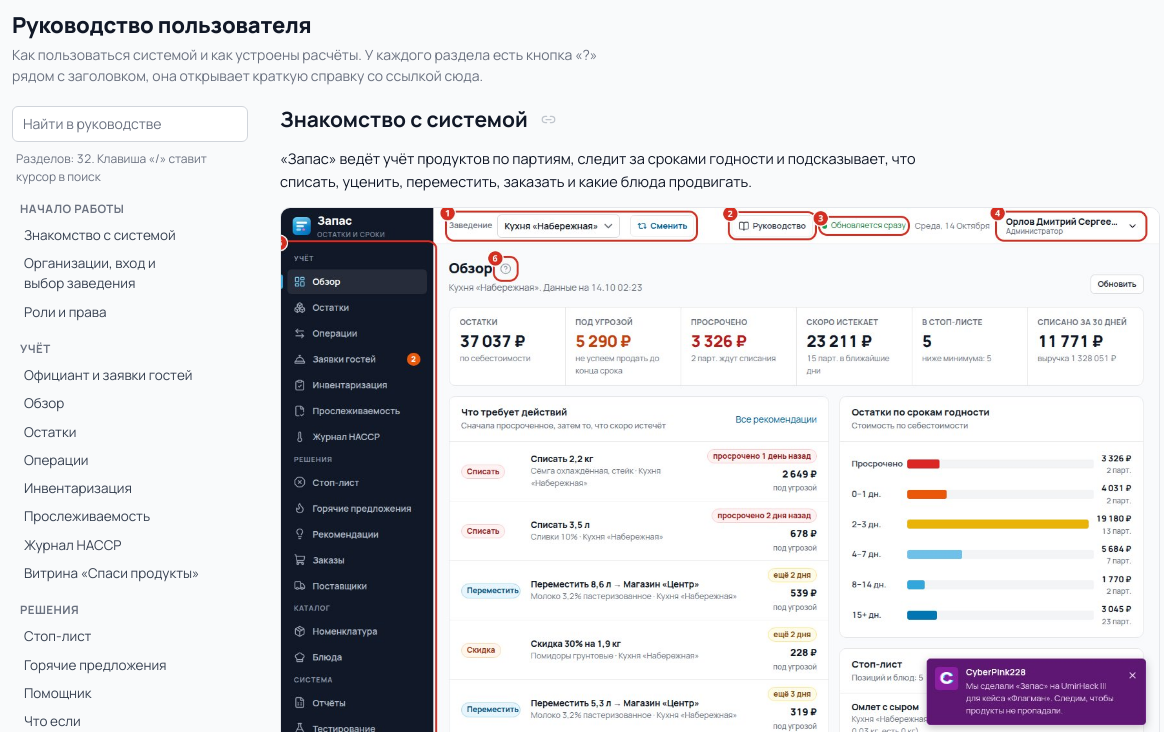
Test: руководство › показывает все разделы и ищет по тексту
The width and height of the screenshot is (1164, 732).
In the search field named "Поиск по руководству": (130, 124) 12,106 -> 248,142, type "фасовка"
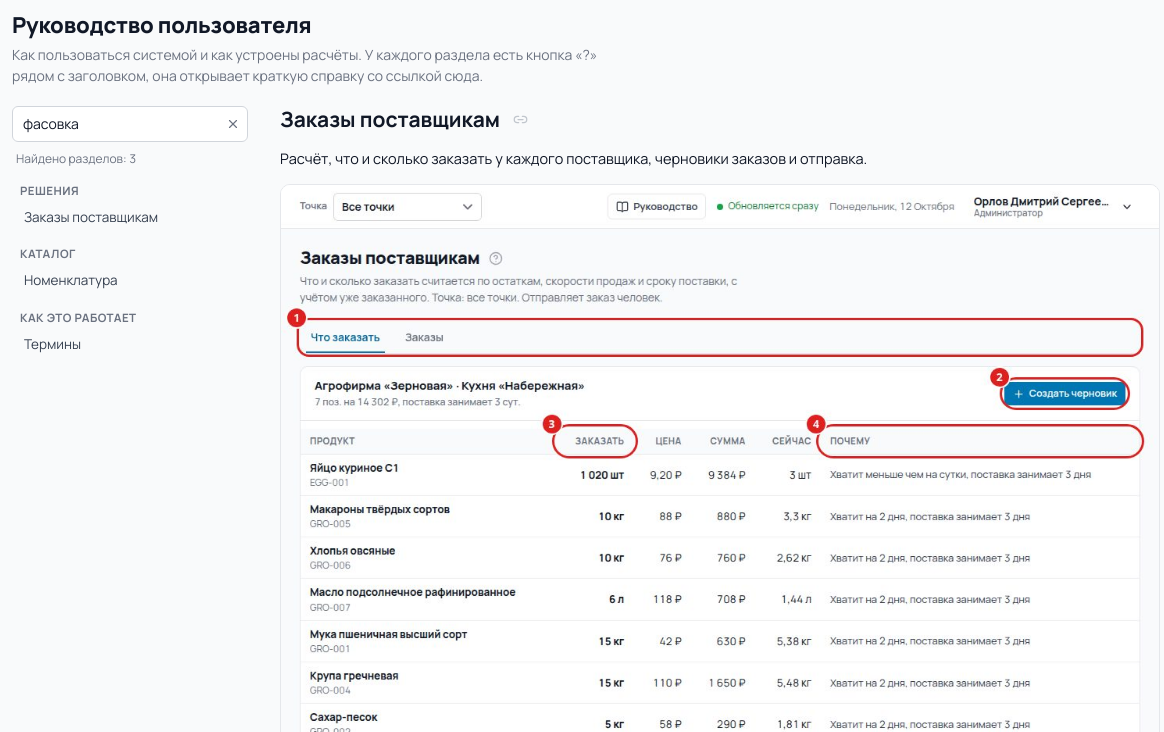
Check: the link "Заказы поставщикам" is shown, box 24,208 -> 158,226
Check: the link "Обзор" no longer shows "Обзор"
Replace the text in the search field named "Поиск по руководству" with "ничегонетакого": (130, 124) 12,106 -> 248,142
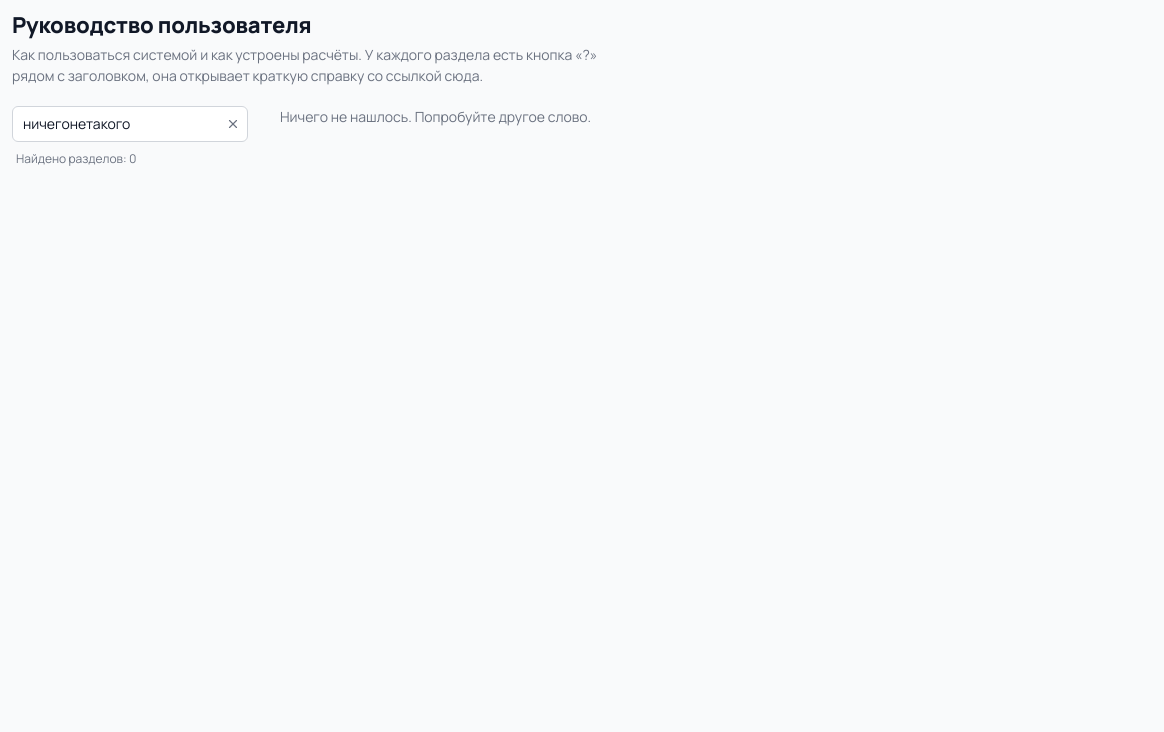
Check: the text "Ничего не нашлось. Попробуйте другое слово." is shown, box 280,106 -> 591,126
